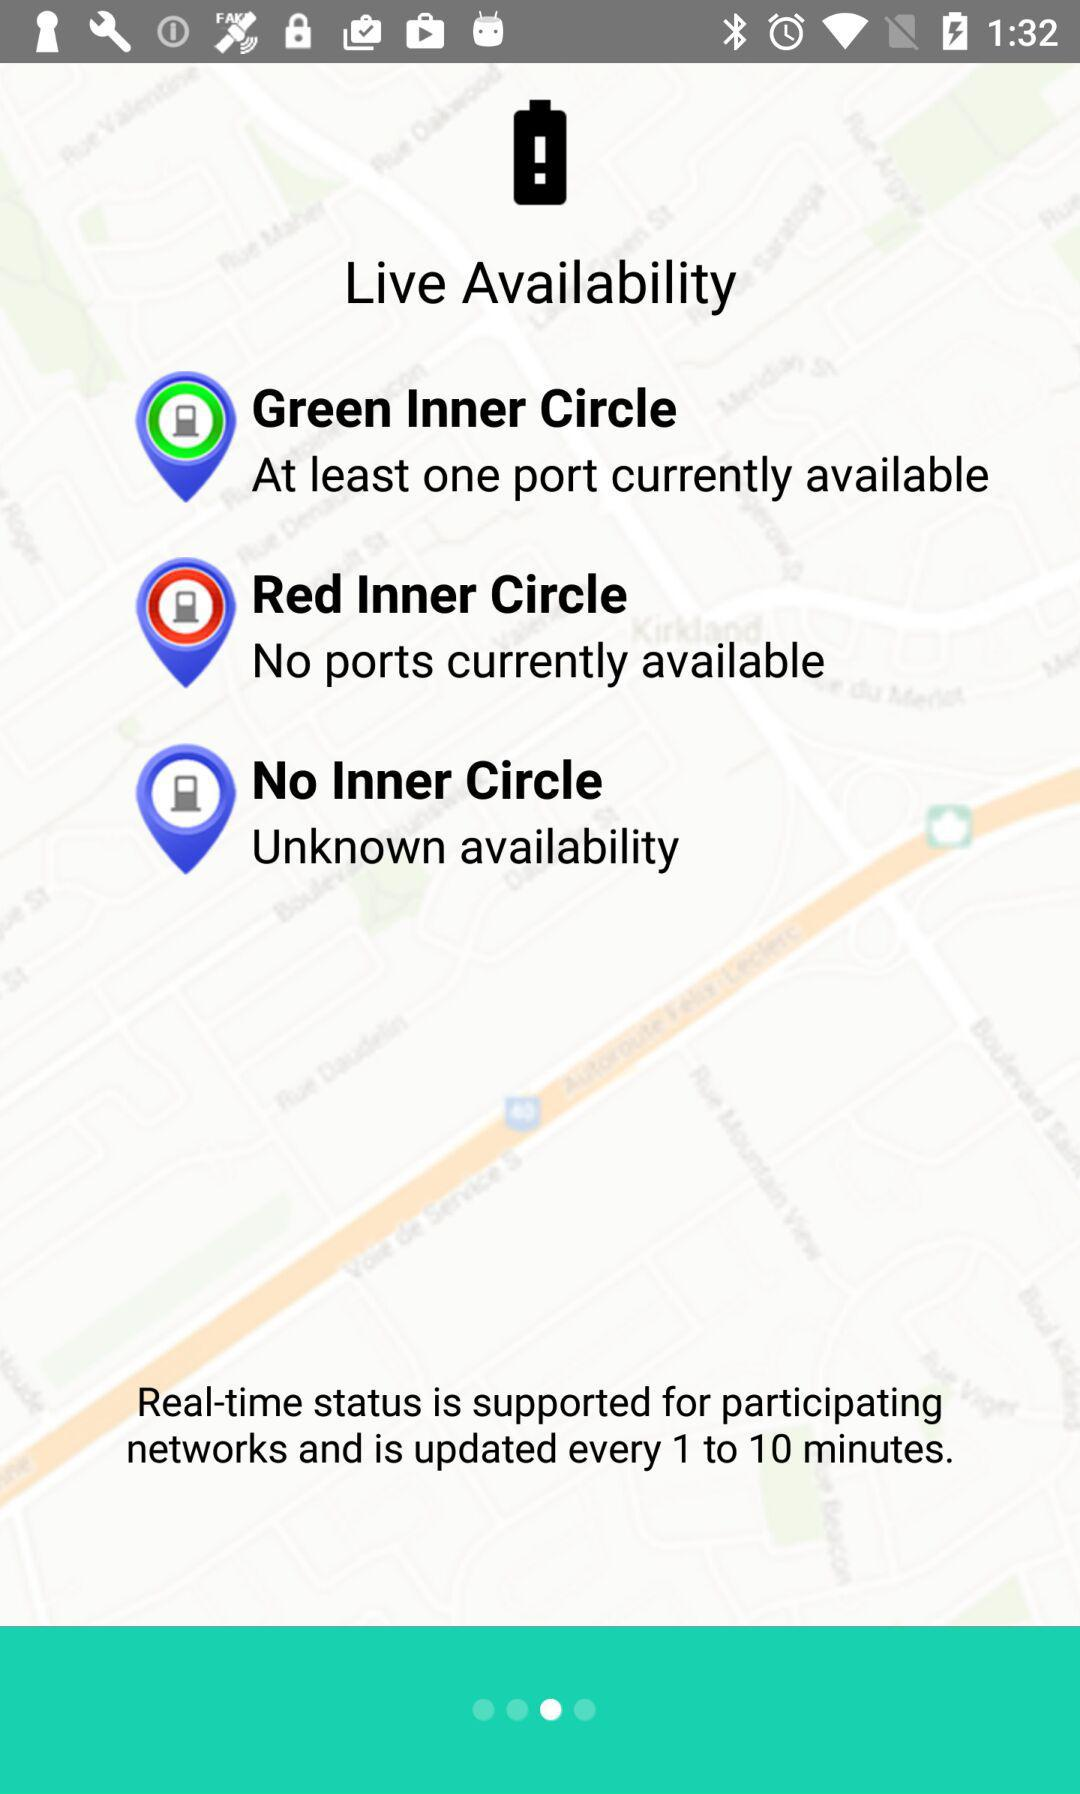Icon: (512, 99, 568, 208)
Image: (133, 368, 234, 501), (135, 554, 234, 687), (135, 742, 234, 875)
PageIndicator: (470, 1695, 598, 1725)
Text: (124, 1381, 953, 1474), (251, 455, 990, 502), (251, 638, 825, 689), (251, 823, 680, 875), (347, 259, 737, 317), (252, 386, 678, 431), (251, 570, 626, 616), (252, 756, 603, 802)
UpperTaskBar: (1, 1, 1080, 64)
